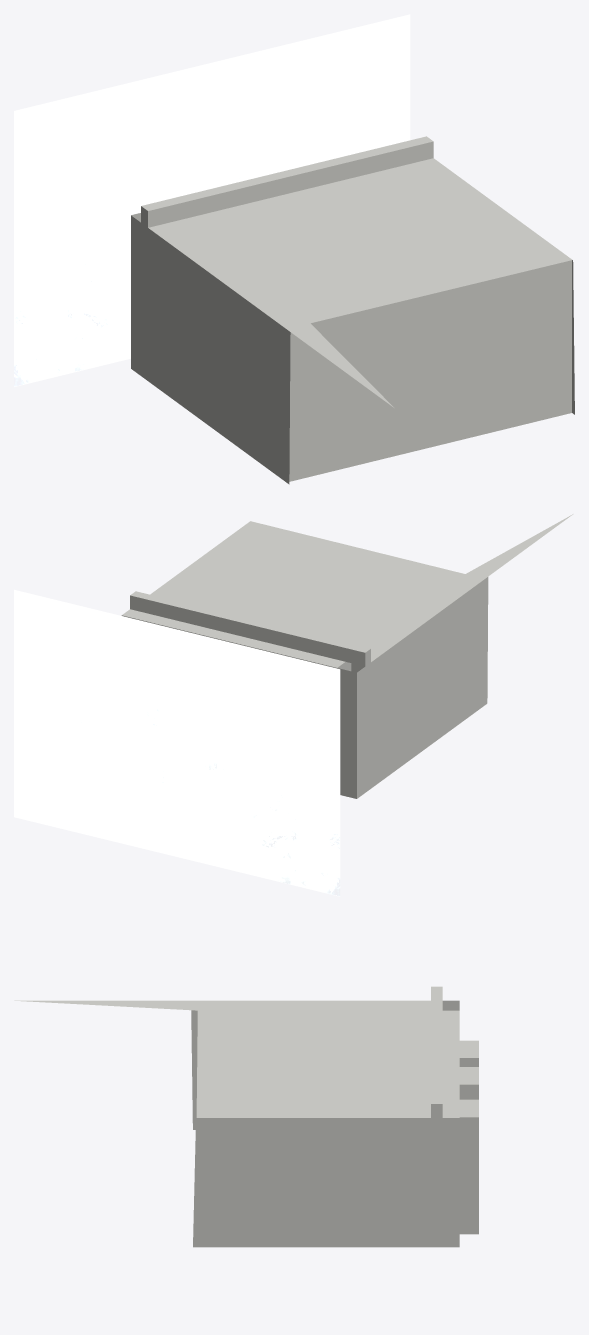
Rendered from apartment-room.glb.
3 renders of one model, top to bottom at view 1: azimuth 30°, elevation 25°; view 2: azimuth 150°, elevation 25°; view 3: azimuth 270°, elevation 25°, orthographic. The views are drawn at different scales.
Visible parts, largest first — view 1: Cube_Material_0, Plane.003; view 2: Plane.003, Cube_Material_0; view 3: Cube_Material_0.
Part boxes in pixels (x1,y1,x2,y2): Cube_Material_0: (131,136,574,484); Plane.003: (14,14,410,386); Plane.003: (14,589,340,896); Cube_Material_0: (121,514,573,798); Cube_Material_0: (14,986,478,1247).
Size of the model in its own units: 7.87 by 5.24 by 11.46.
Materials: 11 (1 with a texture image).
